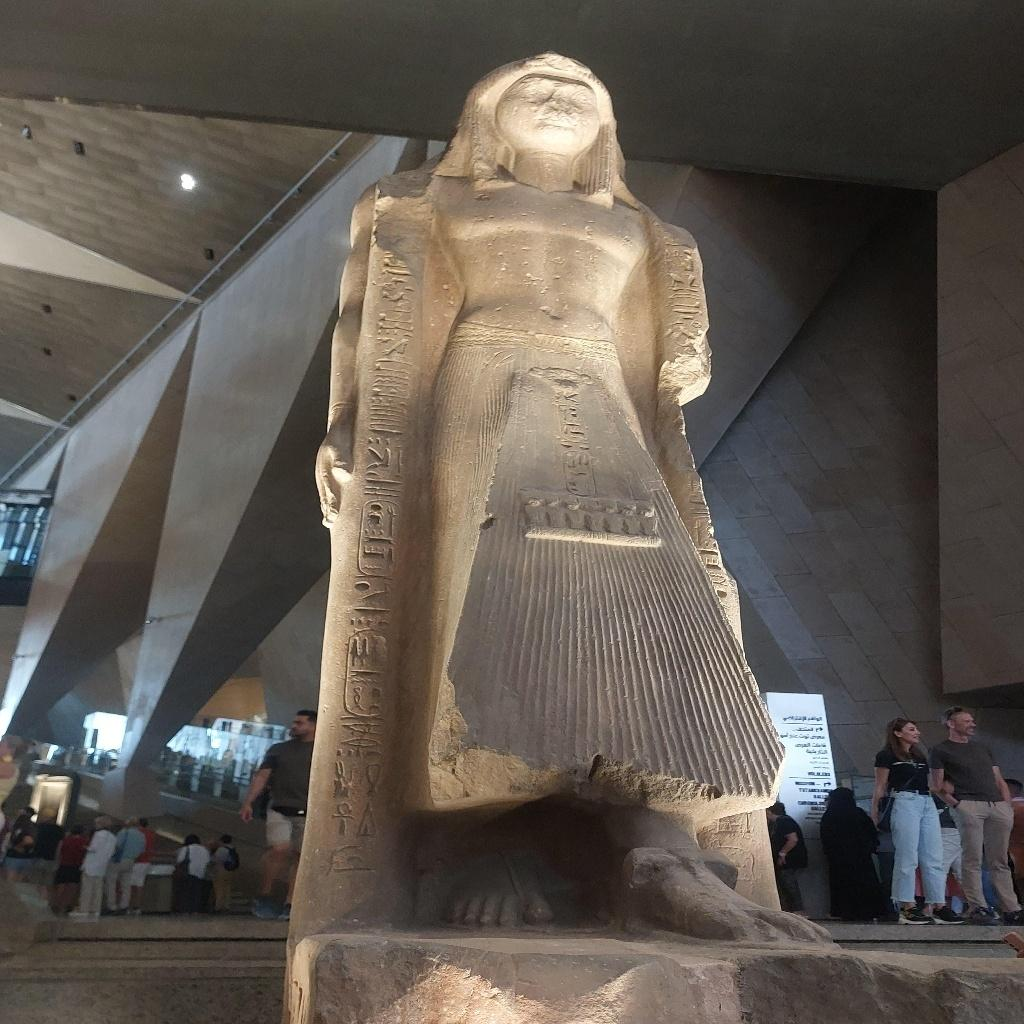Statue of King Sety Il Holding Standards: (313, 48, 784, 942)
